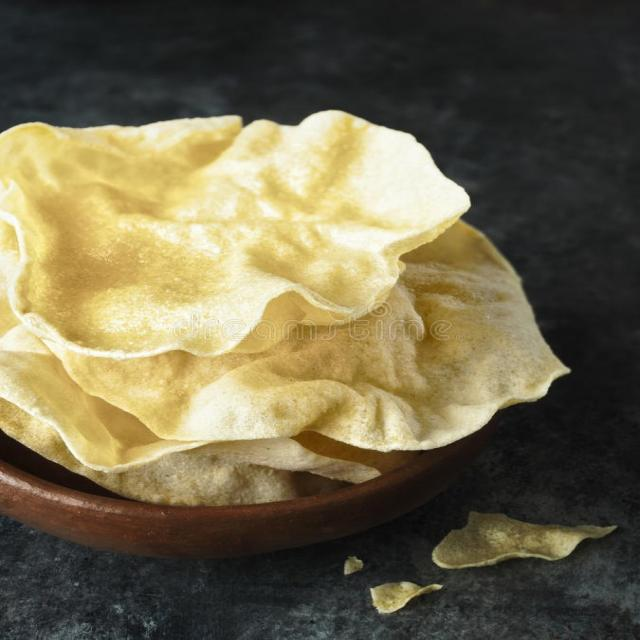papad: (4, 97, 472, 368), (78, 208, 570, 449), (0, 370, 410, 507), (431, 499, 606, 573)
